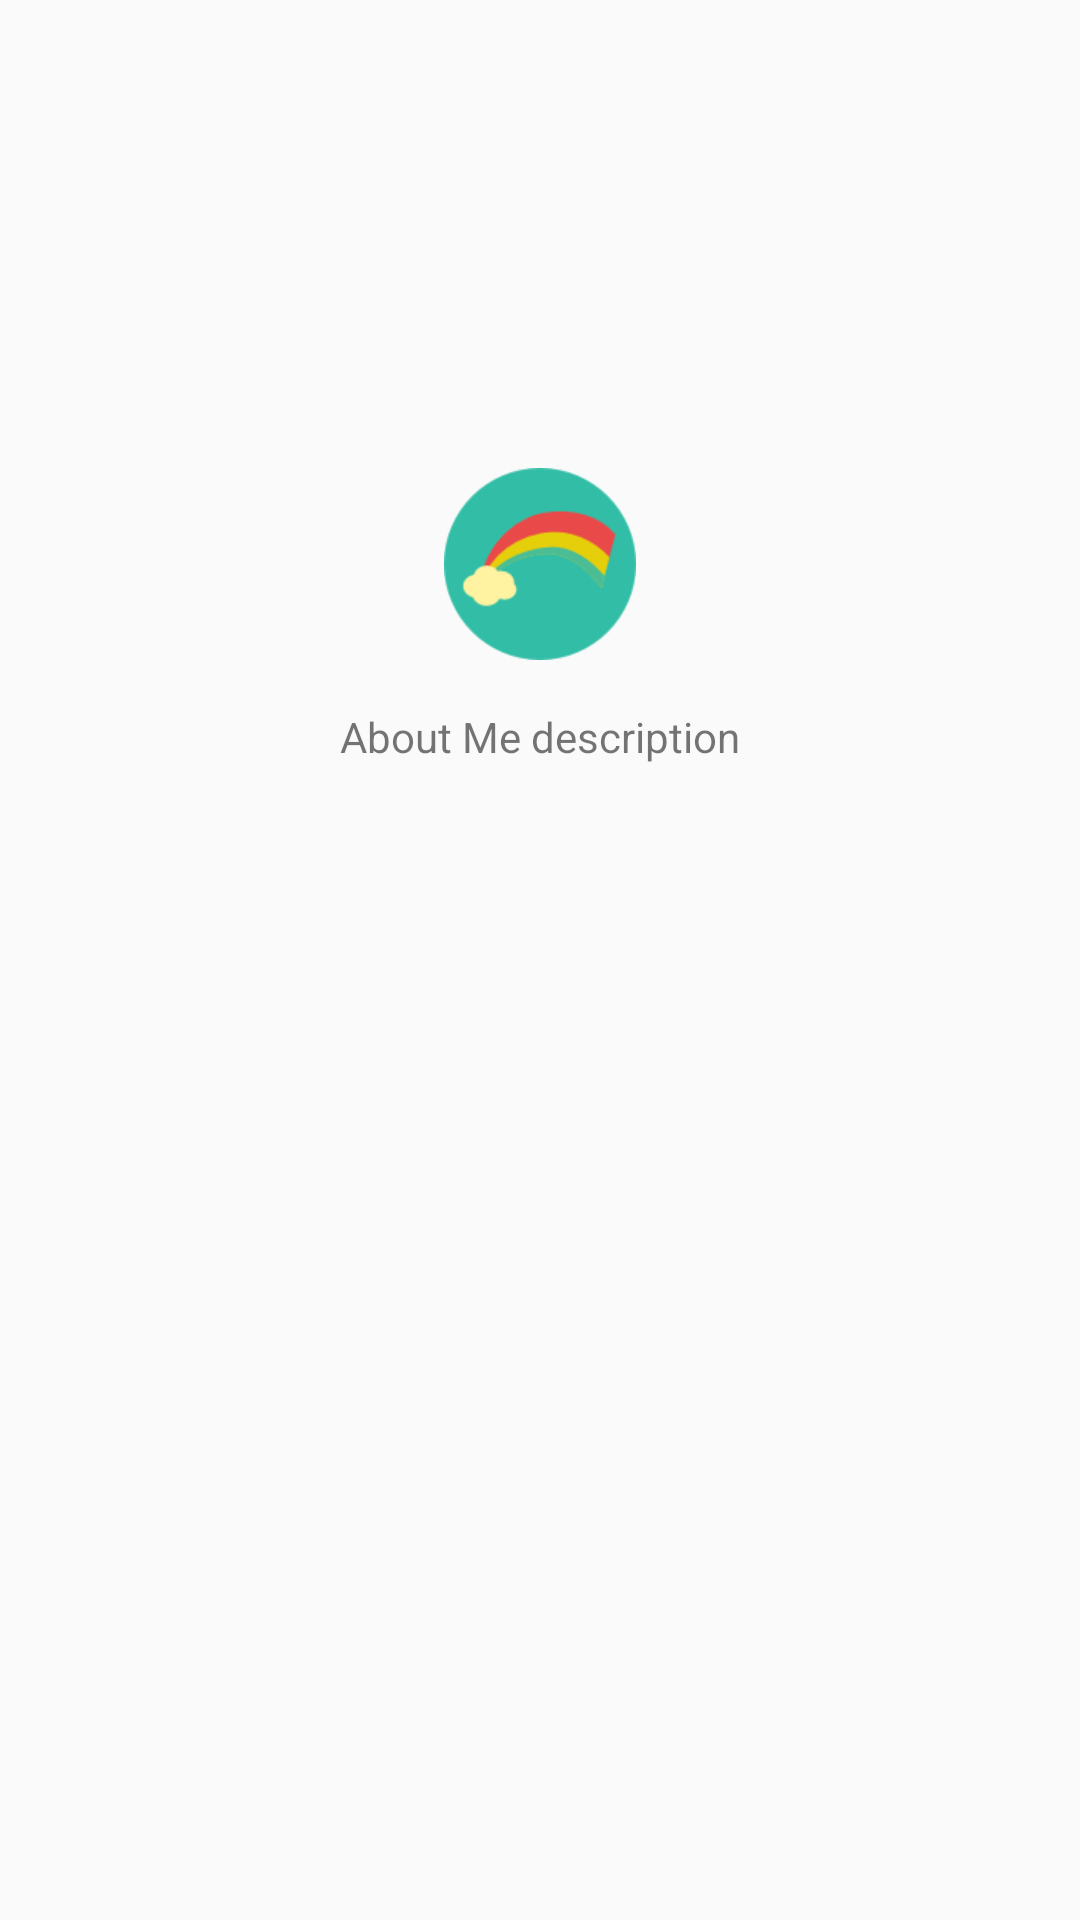

Locate icon controls on the screen. Image size 1080 x 1920, boxes as (x1,y1,x2,y2).
rainbow: (444,468,636,660)
